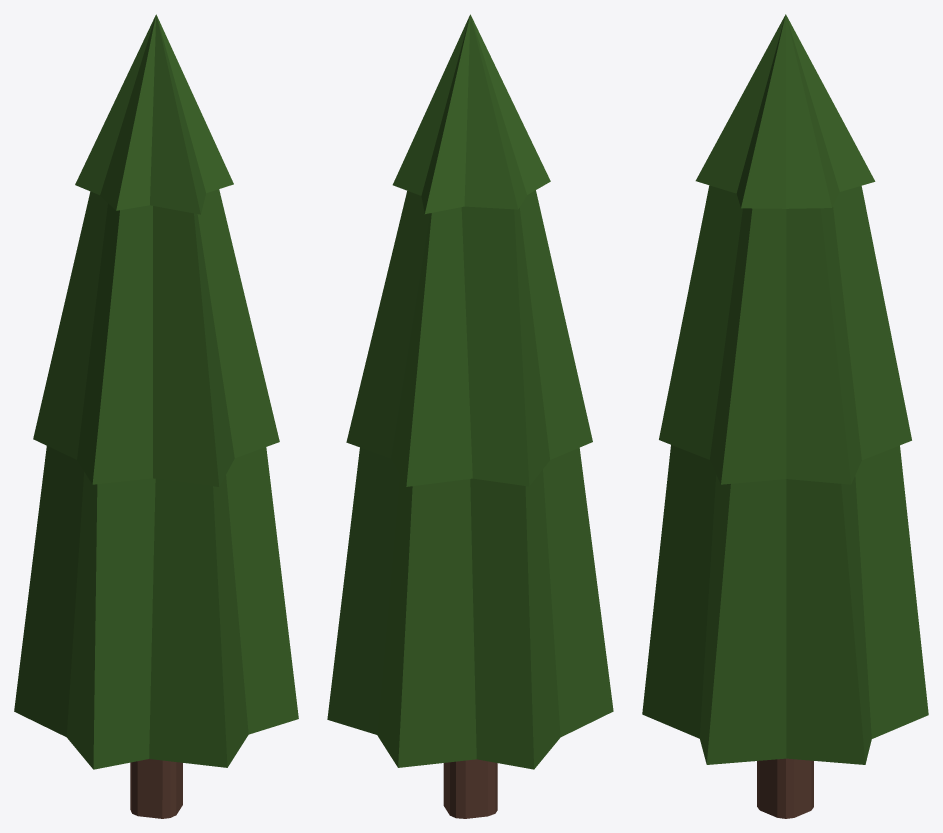
Rendered from protoTree_.fbx.
The picture shows the model from 3 angles, left to right: view 1: azimuth 30°, elevation 25°; view 2: azimuth 150°, elevation 25°; view 3: azimuth 270°, elevation 25°; orthographic projection.
Parts seen in each view (by area): view 1: Tree; view 2: Tree; view 3: Tree.
Part boxes in pixels (bbox=[...]): Tree: bbox=[14, 14, 298, 818]; Tree: bbox=[327, 14, 613, 818]; Tree: bbox=[642, 14, 928, 818].
Bounding box in the file's own units: 220 × 811 × 266.
